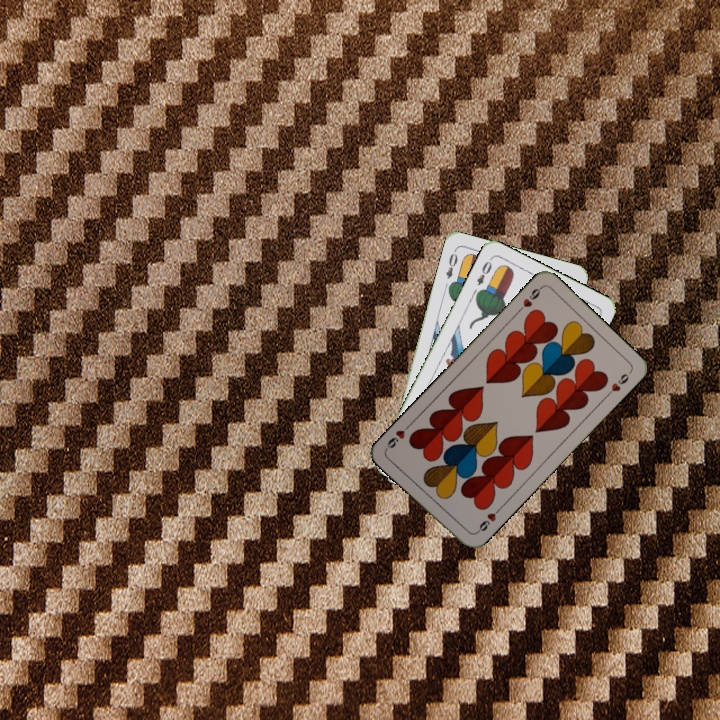EO: (473, 257, 495, 288), (442, 246, 460, 281)
H9: (513, 283, 545, 316), (471, 504, 503, 537)
